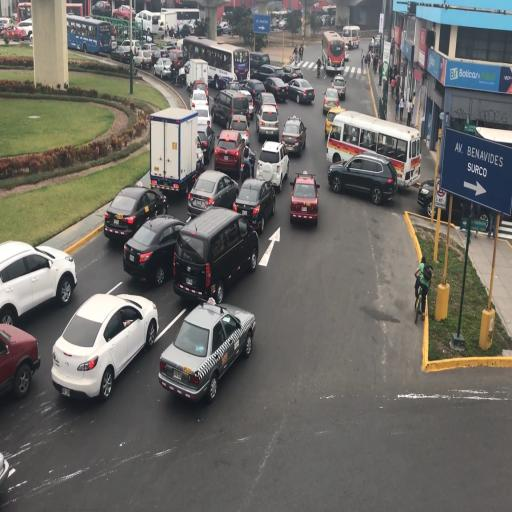auto: (51, 291, 156, 399), (158, 299, 254, 404), (174, 206, 256, 302), (0, 240, 76, 328), (124, 214, 187, 286), (103, 183, 166, 243), (419, 186, 496, 234), (328, 152, 393, 205), (0, 318, 40, 404), (187, 169, 239, 218), (233, 174, 276, 230), (210, 88, 251, 130), (214, 128, 248, 178), (255, 141, 287, 192), (289, 171, 318, 226), (281, 115, 307, 157), (256, 102, 279, 140), (286, 78, 314, 105), (262, 75, 288, 103), (325, 104, 344, 138), (256, 63, 283, 86), (1, 22, 32, 42), (322, 88, 340, 116), (154, 57, 176, 79), (280, 64, 304, 84), (192, 104, 210, 128), (148, 48, 169, 68), (133, 48, 153, 69), (332, 74, 346, 102), (112, 4, 135, 20), (140, 42, 160, 60), (120, 38, 141, 54), (92, 1, 112, 17), (152, 17, 166, 39), (160, 40, 177, 56), (134, 9, 153, 22), (218, 20, 230, 33)
bus: (149, 106, 199, 202), (186, 58, 209, 95)
camion: (316, 57, 322, 77)
moto: (184, 36, 247, 90), (66, 14, 114, 54), (162, 6, 202, 38), (321, 30, 344, 75), (344, 25, 362, 51), (17, 1, 32, 22), (65, 3, 83, 18)
